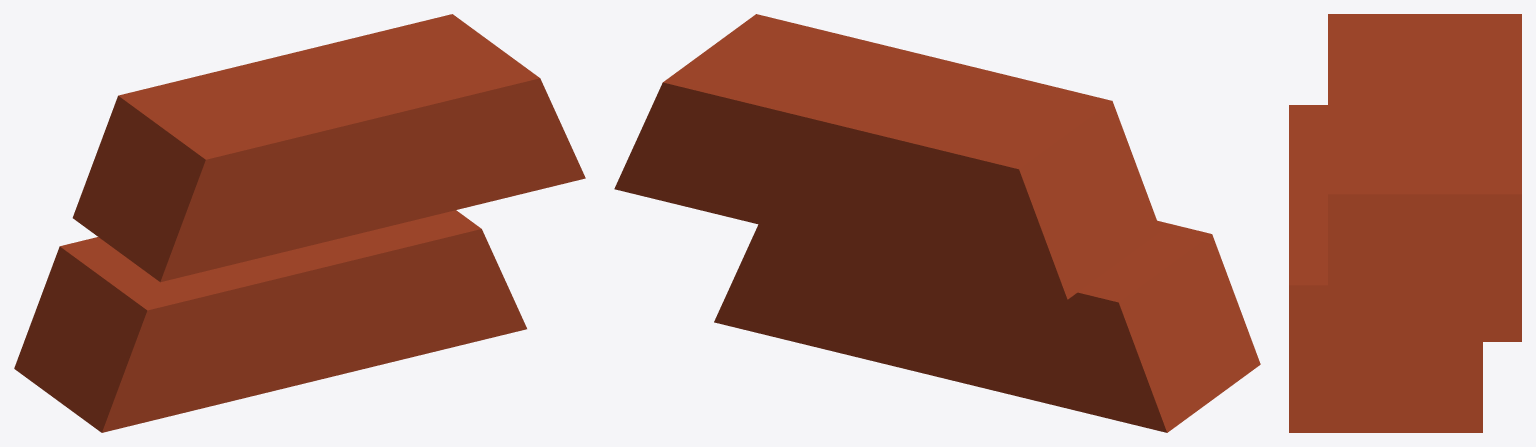
File: meteorite_bar.glb
The picture shows the model from 3 angles, left to right: view 1: azimuth 30°, elevation 25°; view 2: azimuth 150°, elevation 25°; view 3: azimuth 270°, elevation 25°; orthographic projection. The views are drawn at different scales.
Visible parts, largest first — view 1: meteorite_bar_v0; view 2: meteorite_bar_v0; view 3: meteorite_bar_v0.
Boxes of the visible parts, x1,y1,x2,y2 form: meteorite_bar_v0: (14, 14, 585, 432); meteorite_bar_v0: (614, 14, 1260, 432); meteorite_bar_v0: (1289, 14, 1521, 432).
Bounding box in the file's own units: 0.33 × 0.145 × 0.12.
